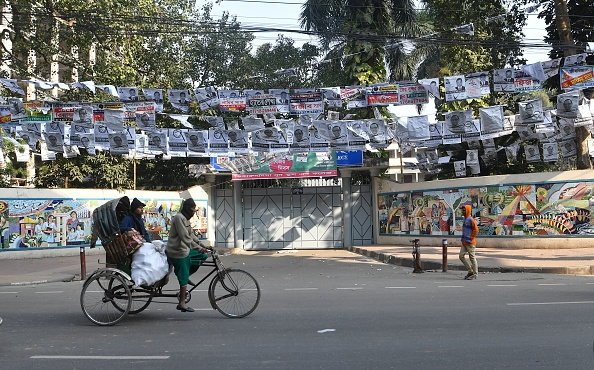Rickshaw: (80, 190, 259, 326)
